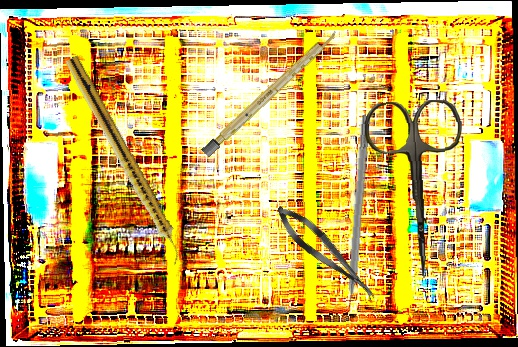Handpiece: (60, 54, 190, 267)
Iris Scissors: (363, 98, 471, 281)
Micro Scissor: (269, 198, 384, 308)
Pusher: (340, 114, 372, 328)
Scalpel Handle: (201, 27, 340, 158)
